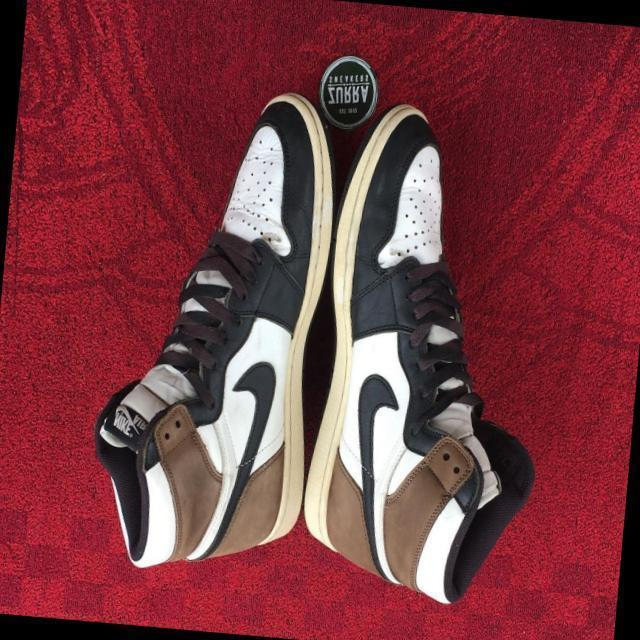nike original jordan 1: (294, 85, 568, 608), (78, 63, 346, 577)
